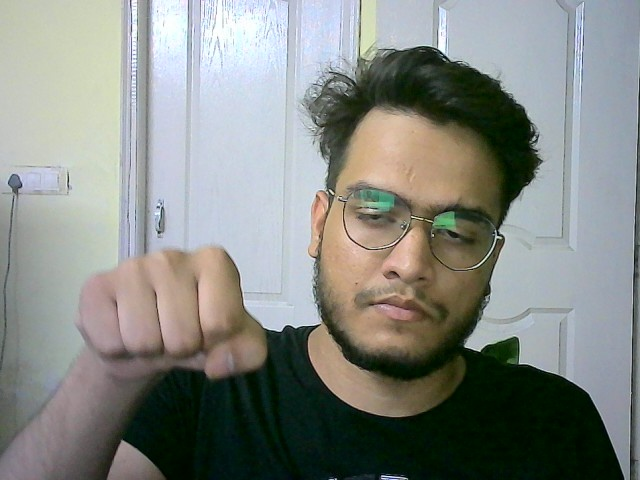Yes: (62, 241, 273, 386)
